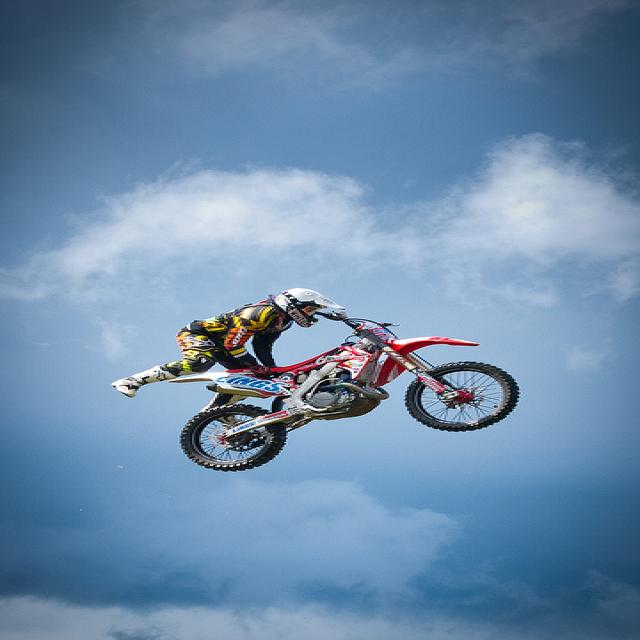motor: (165, 309, 521, 472)
